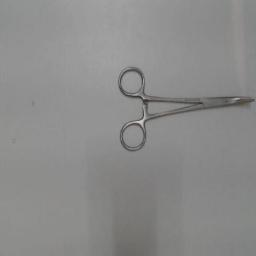Crile Artery Forceps: (116, 60, 256, 152)
